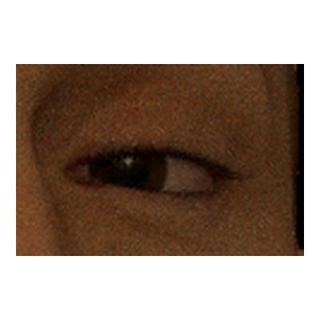pupil: (107, 149, 146, 187)
